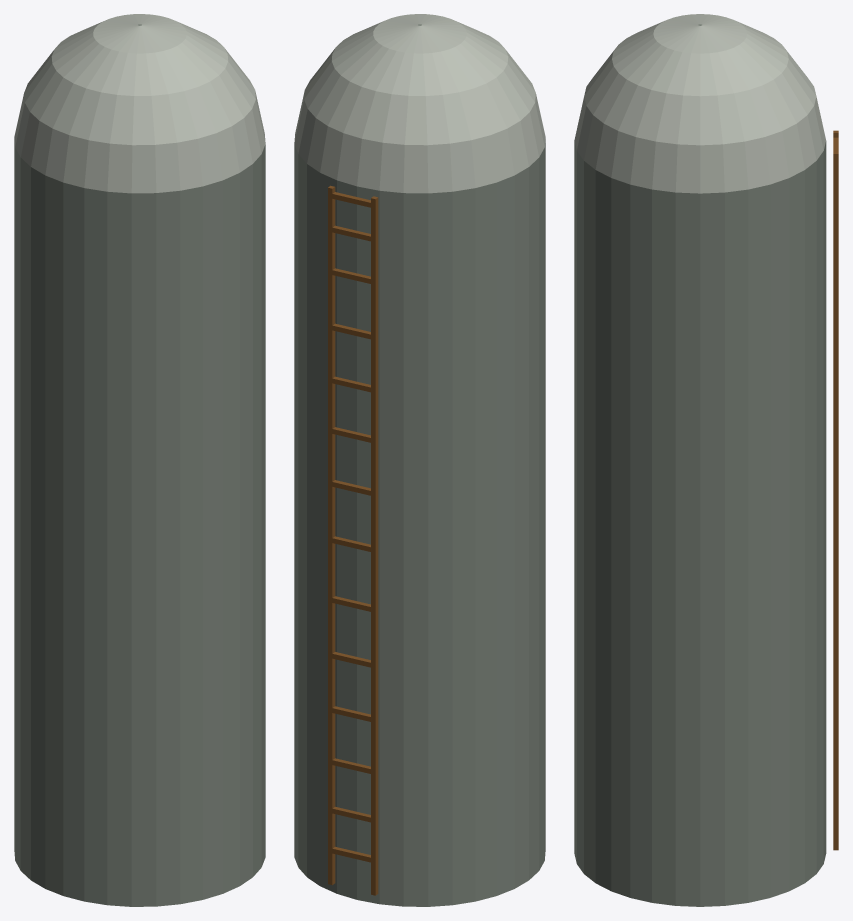
Rendered from Silo.glb.
The picture shows the model from 3 angles, left to right: view 1: azimuth 30°, elevation 25°; view 2: azimuth 150°, elevation 25°; view 3: azimuth 270°, elevation 25°; orthographic projection.
Visible parts, largest first — view 1: Cylinder; view 2: Cylinder; view 3: Cylinder.
Part boxes in pixels (x1,y1,x2,y2): Cylinder: (14, 14, 265, 906); Cylinder: (294, 14, 545, 906); Cylinder: (574, 14, 838, 906).
Size of the model in its own units: 2 by 7.26 by 2.1.
